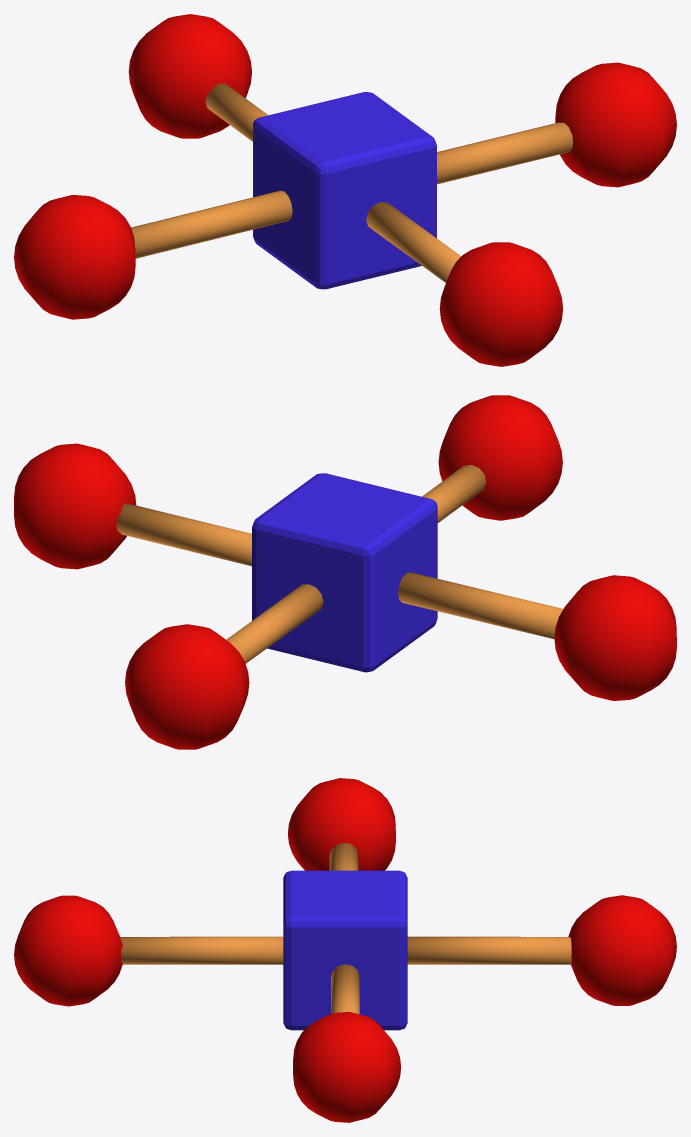
Rendered from ObsBat.fbx.
3 renders of one model, top to bottom at view 1: azimuth 30°, elevation 25°; view 2: azimuth 150°, elevation 25°; view 3: azimuth 270°, elevation 25°, orthographic. The views are drawn at different scales.
Visible parts, largest first — view 1: bat-obstacle; view 2: bat-obstacle; view 3: bat-obstacle.
Part boxes in pixels (<box>): bat-obstacle: <box>14,14,676,366</box>; bat-obstacle: <box>14,395,676,749</box>; bat-obstacle: <box>14,778,676,1122</box>.
Size of the model in its own units: 664 by 125 by 664.
